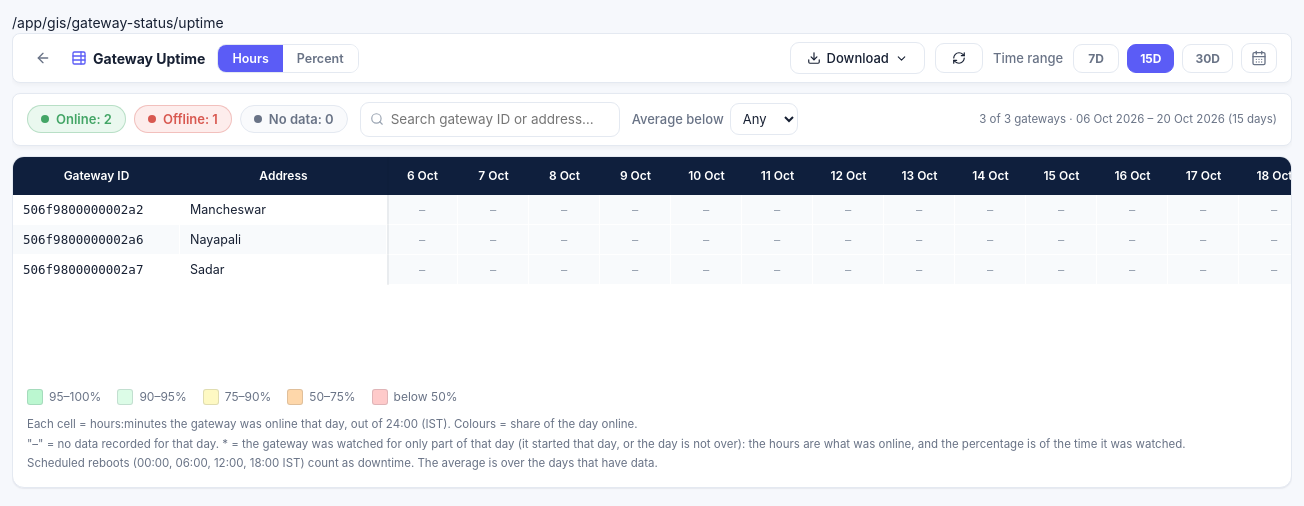
Gateway Uptime page › offers 7 / 15 / 30 days and a calendar, and asks again for the range chosen
Expected: the text "506f9800000002a6" is shown, 13,225 -> 180,255
Expected: the button "30D" is shown, 1182,44 -> 1233,72
What coordinates should you click on to do the following:
click the button "7D"
I would click on:
 (1096, 58)
Its box is 1073,44 -> 1119,72.
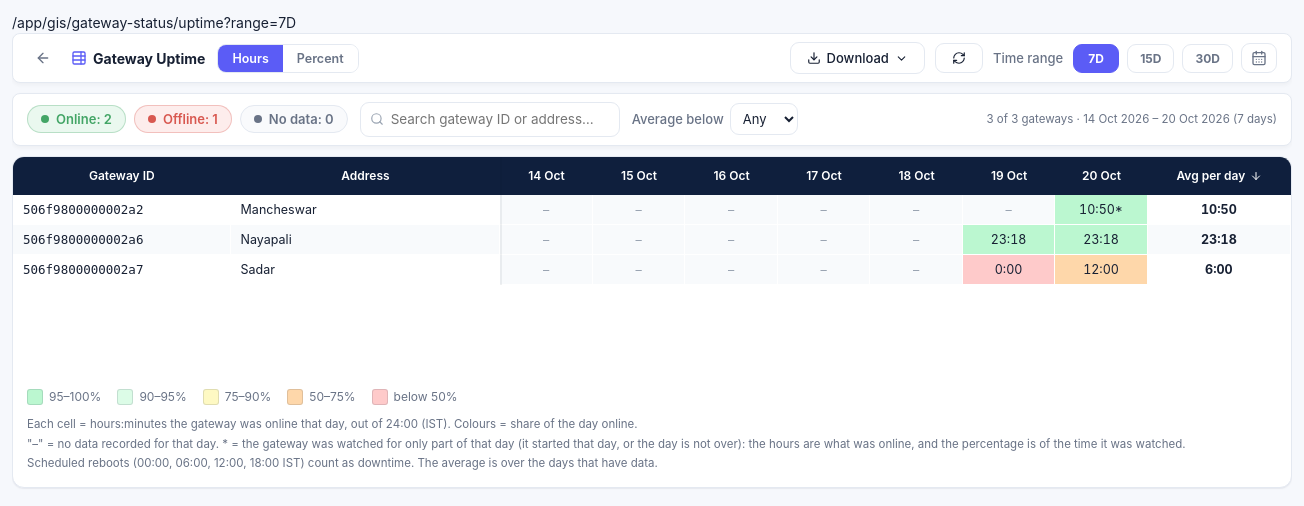
Result: the text with test id "where" shows "range=7D" at 224,14 -> 296,31
